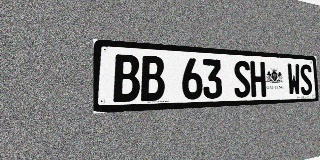3: (202, 59, 222, 99)
6: (182, 58, 203, 100)
B: (113, 54, 140, 102), (140, 55, 165, 101)
H: (250, 61, 266, 97)
S: (233, 60, 251, 98), (300, 64, 312, 95)
W: (287, 63, 301, 96)
